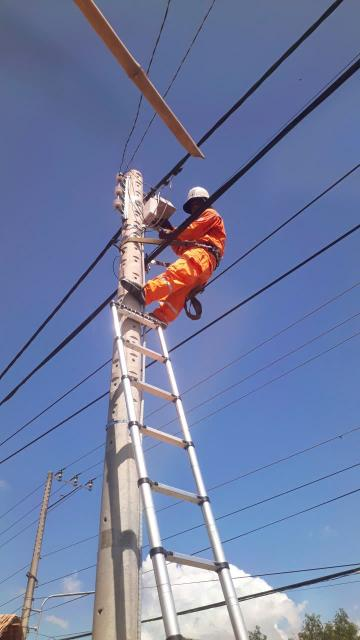gloves: (148, 216, 175, 238)
harness: (185, 237, 222, 269)
helmet: (170, 174, 226, 208)
shoes: (112, 281, 149, 307), (142, 312, 173, 335)
